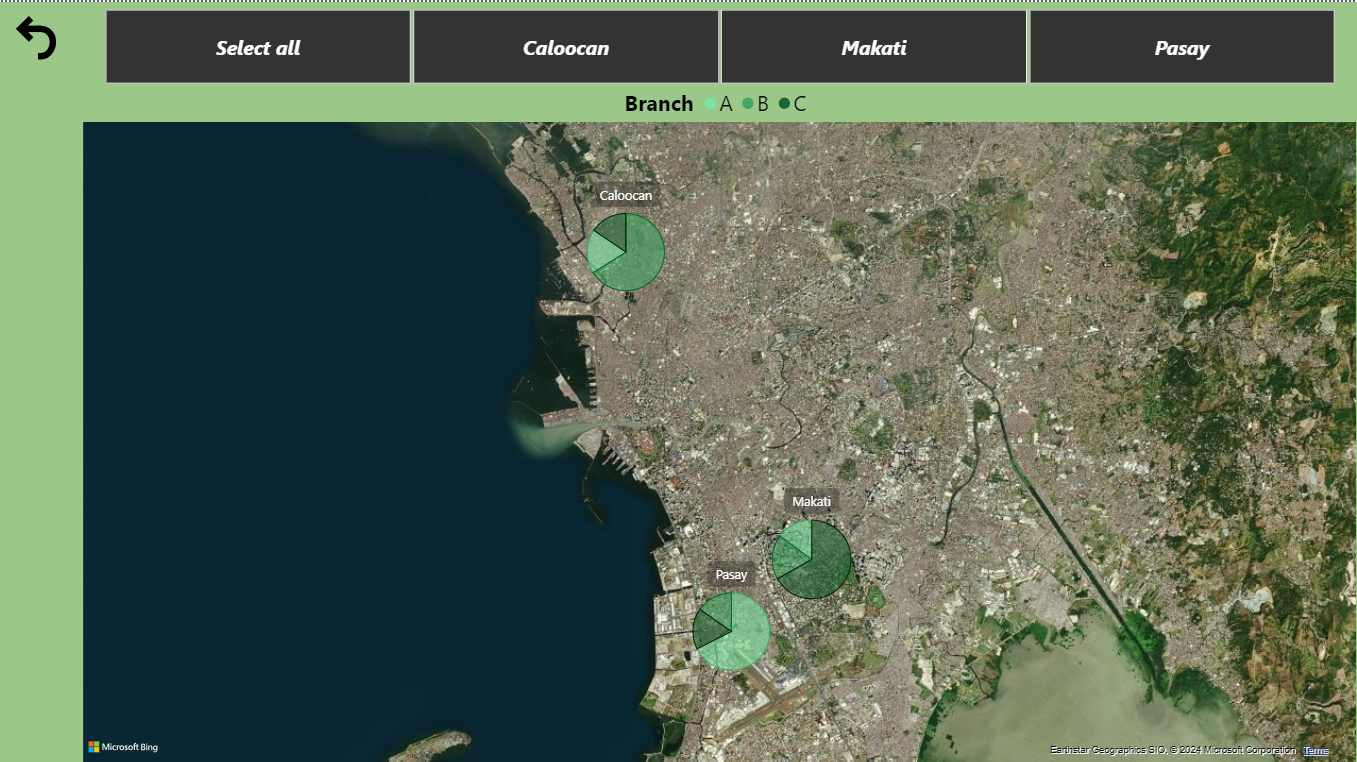

The page's visual inventory and layout, read from the dashboard file:
{"tool":"powerbi","page":{"name":"Map","canvas":[1280,720],"ordinal":1},"visuals":[{"type":"map","fields":{"Category":["Supermarket_Dataset.City"],"Series":["Supermarket_Dataset.Branch"],"Size":["Sum(Supermarket_Dataset.Total)"]},"box":[72.5,71.2,1207.5,648.8],"z":0},{"type":"slicer","fields":{"Values":["Supermarket_Dataset.City"]},"box":[72.5,0,1207.5,83.8],"z":1000},{"type":"shape","box":[0,0,78.3,720.2],"z":1500},{"type":"actionButton","box":[9.8,8.6,53.8,50.1],"z":2000}]}

Visuals, with their boxes in screenshot pixels (x1, y1, x2, y2), scaled from the page's 1280x720 canvas onto the 1357x762 screenshot:
map - Supermarket_Dataset.City x Supermarket_Dataset.Branch: <box>77,75,1356,761</box>
slicer - Supermarket_Dataset.City: <box>77,0,1356,89</box>
shape: <box>0,0,83,761</box>
actionButton: <box>10,9,67,62</box>
